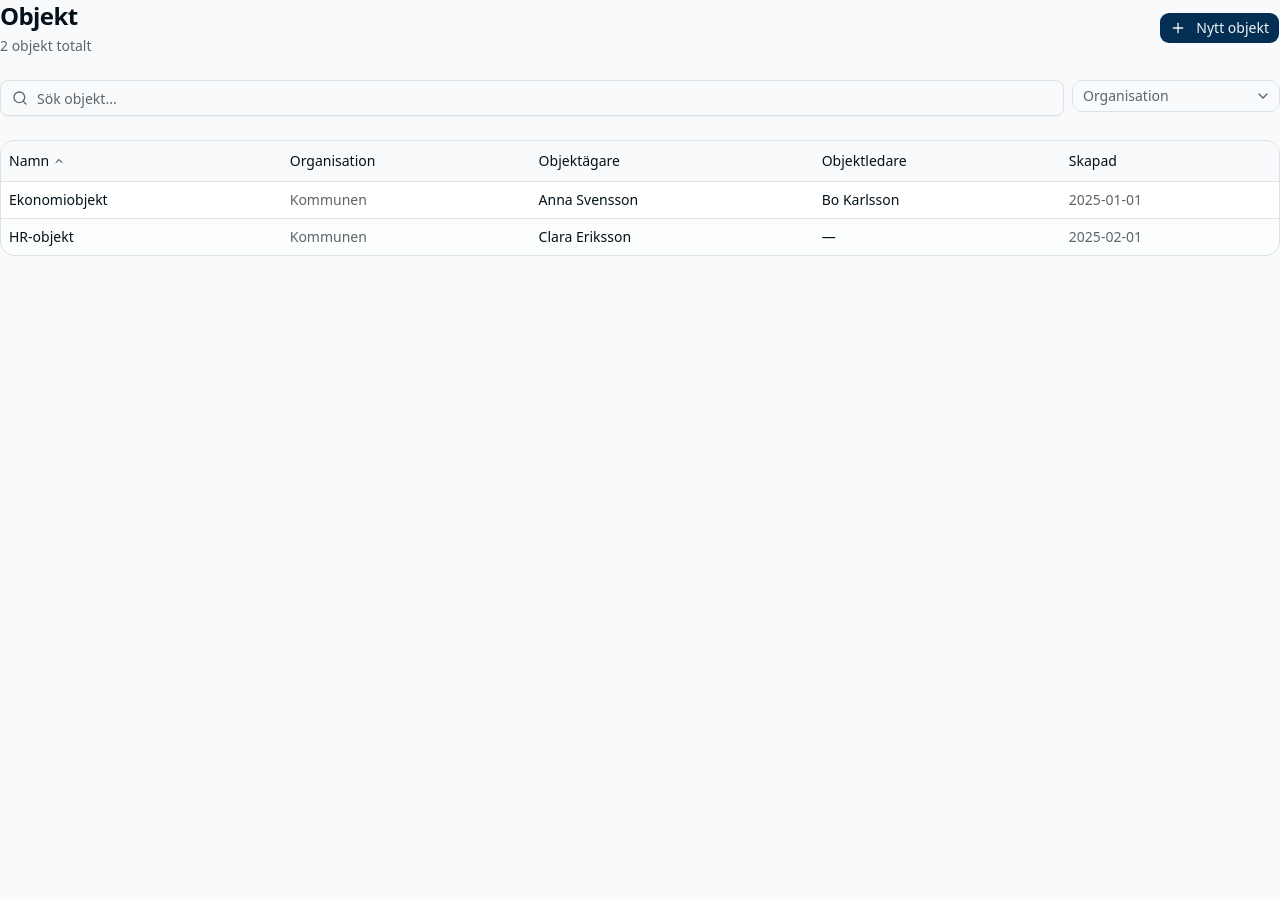
ObjektPage › klick på Nytt objekt öppnar dialog
This screenshot has width=1280, height=900.
Step 1. Click the button "Nytt objekt" → x=1220, y=28, box [1159,12,1279,44]
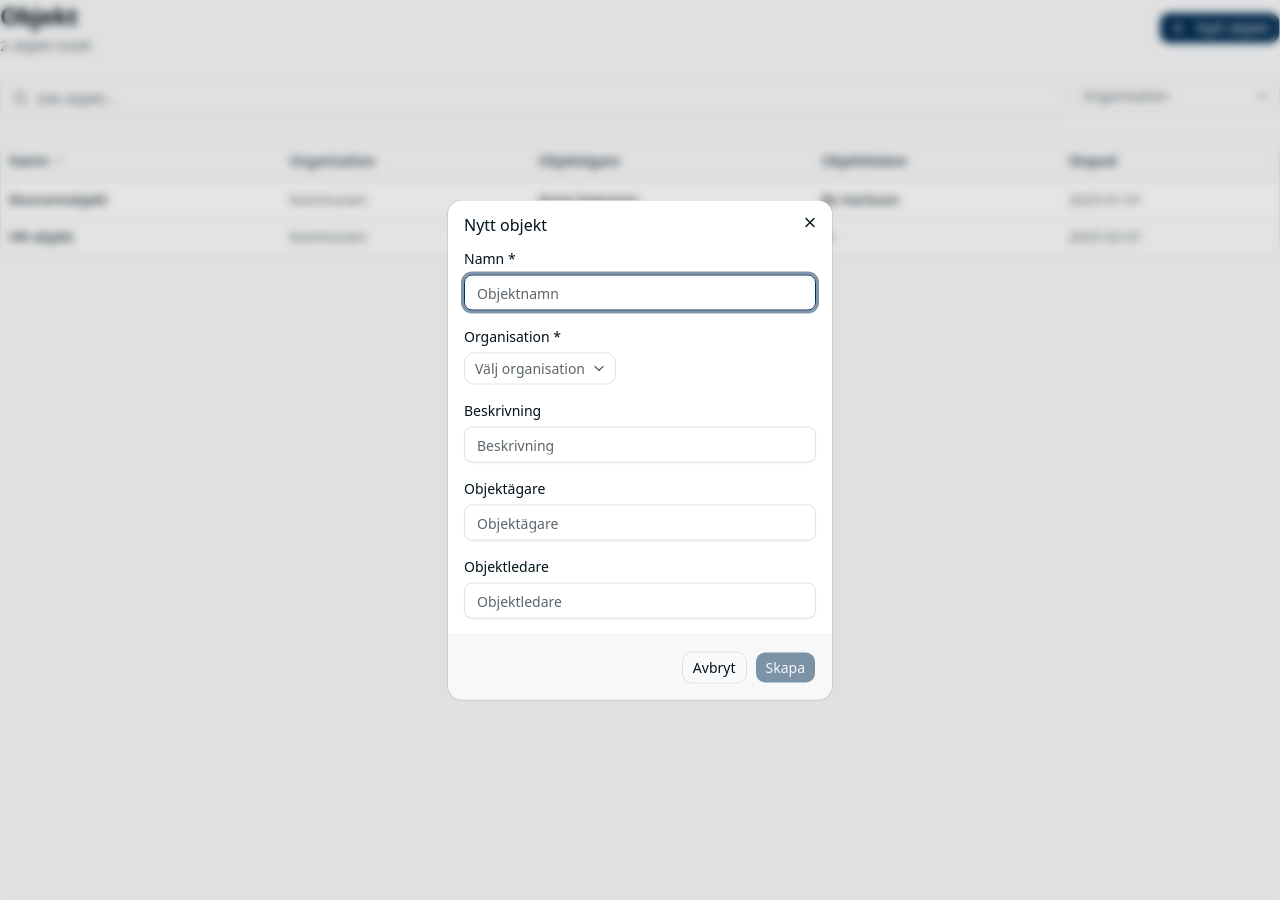
Check: the dialog is shown, box [448,200,832,700]
